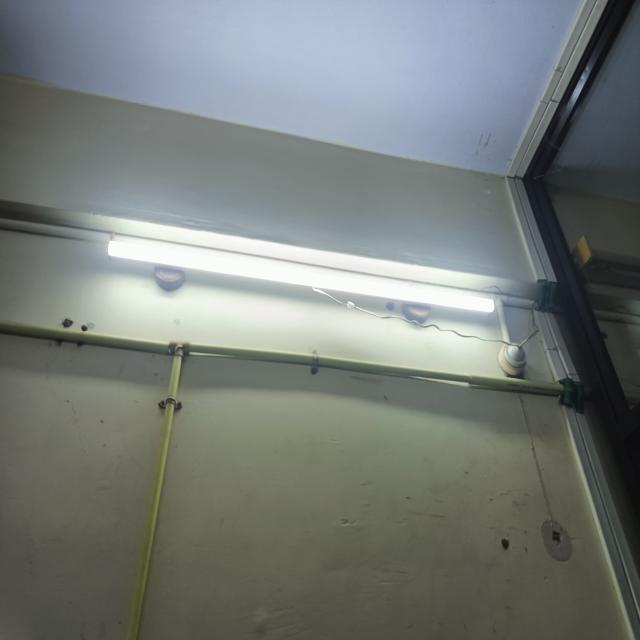tubelight_on: (101, 233, 503, 334)
